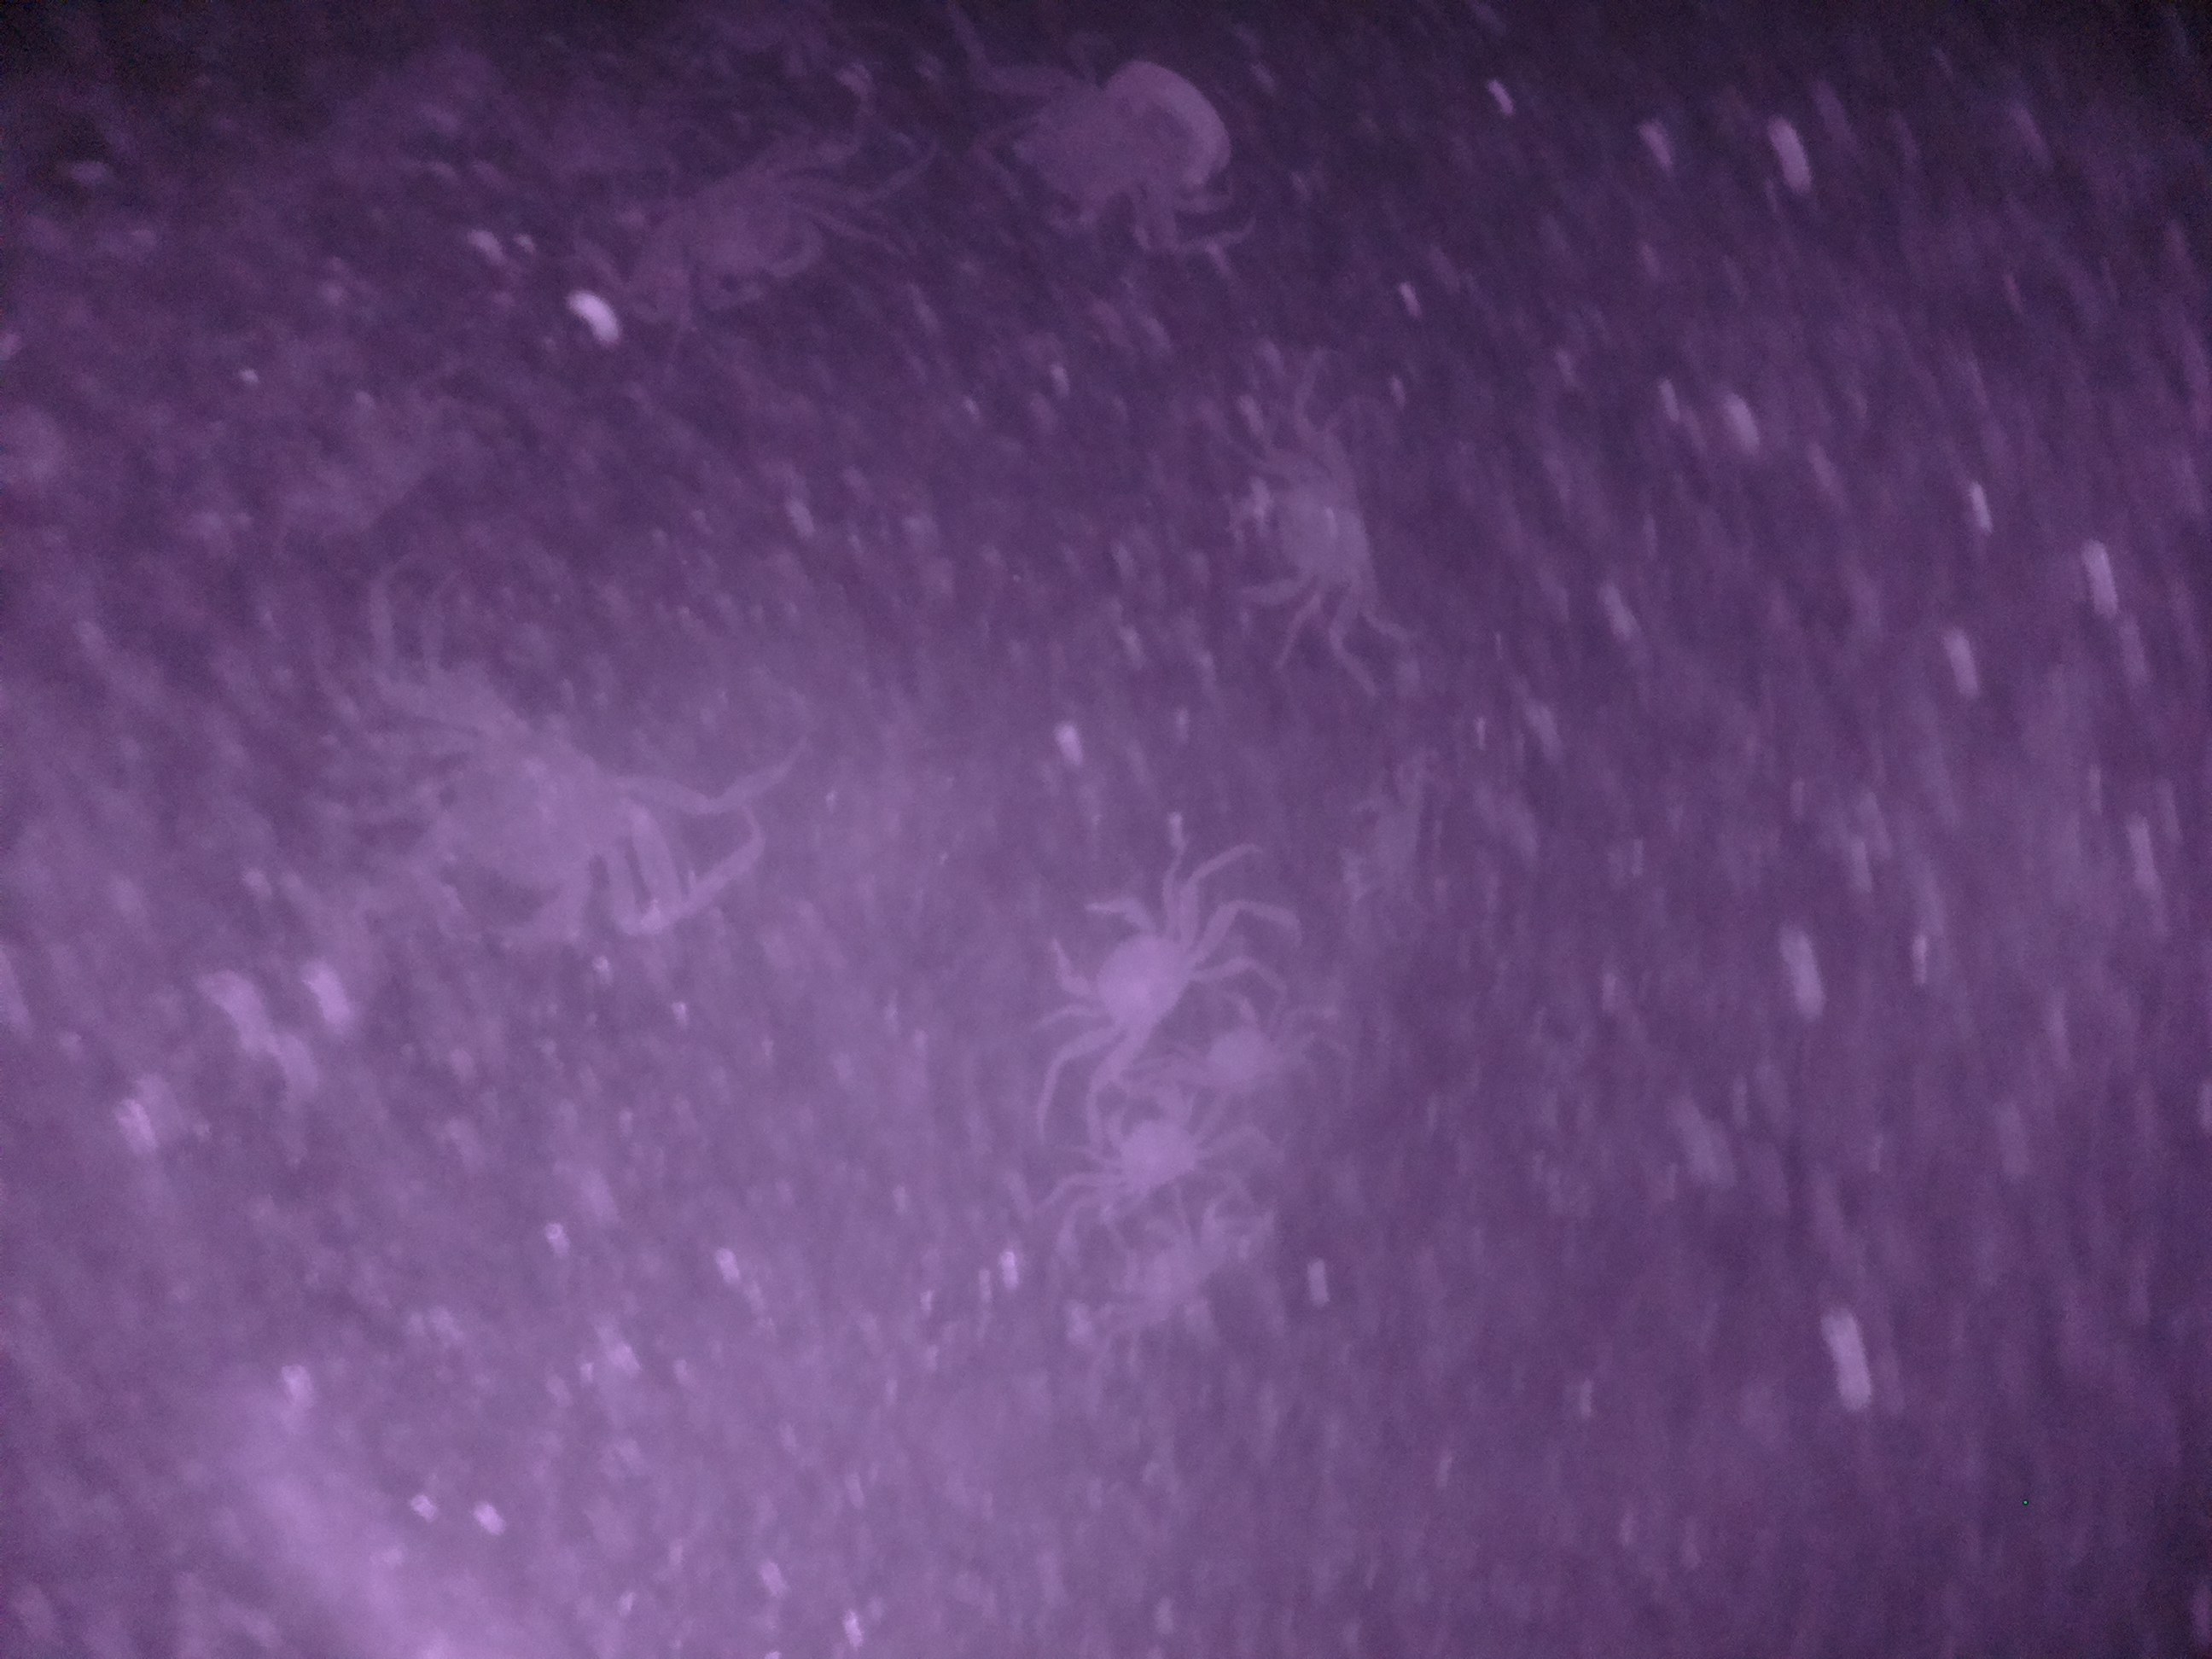Crab: (1223, 410, 1397, 653), (1031, 861, 1216, 1072), (650, 139, 841, 314)
